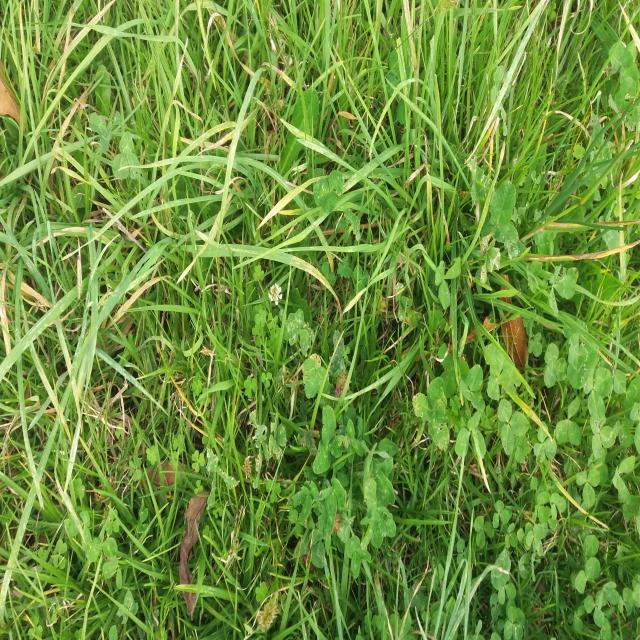Four Leaf Clover: (412, 377, 449, 452)
